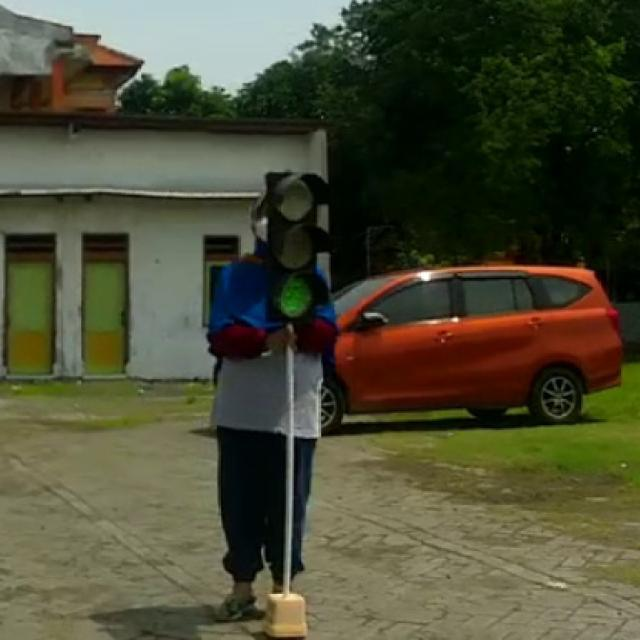green_light: (257, 170, 327, 320)
